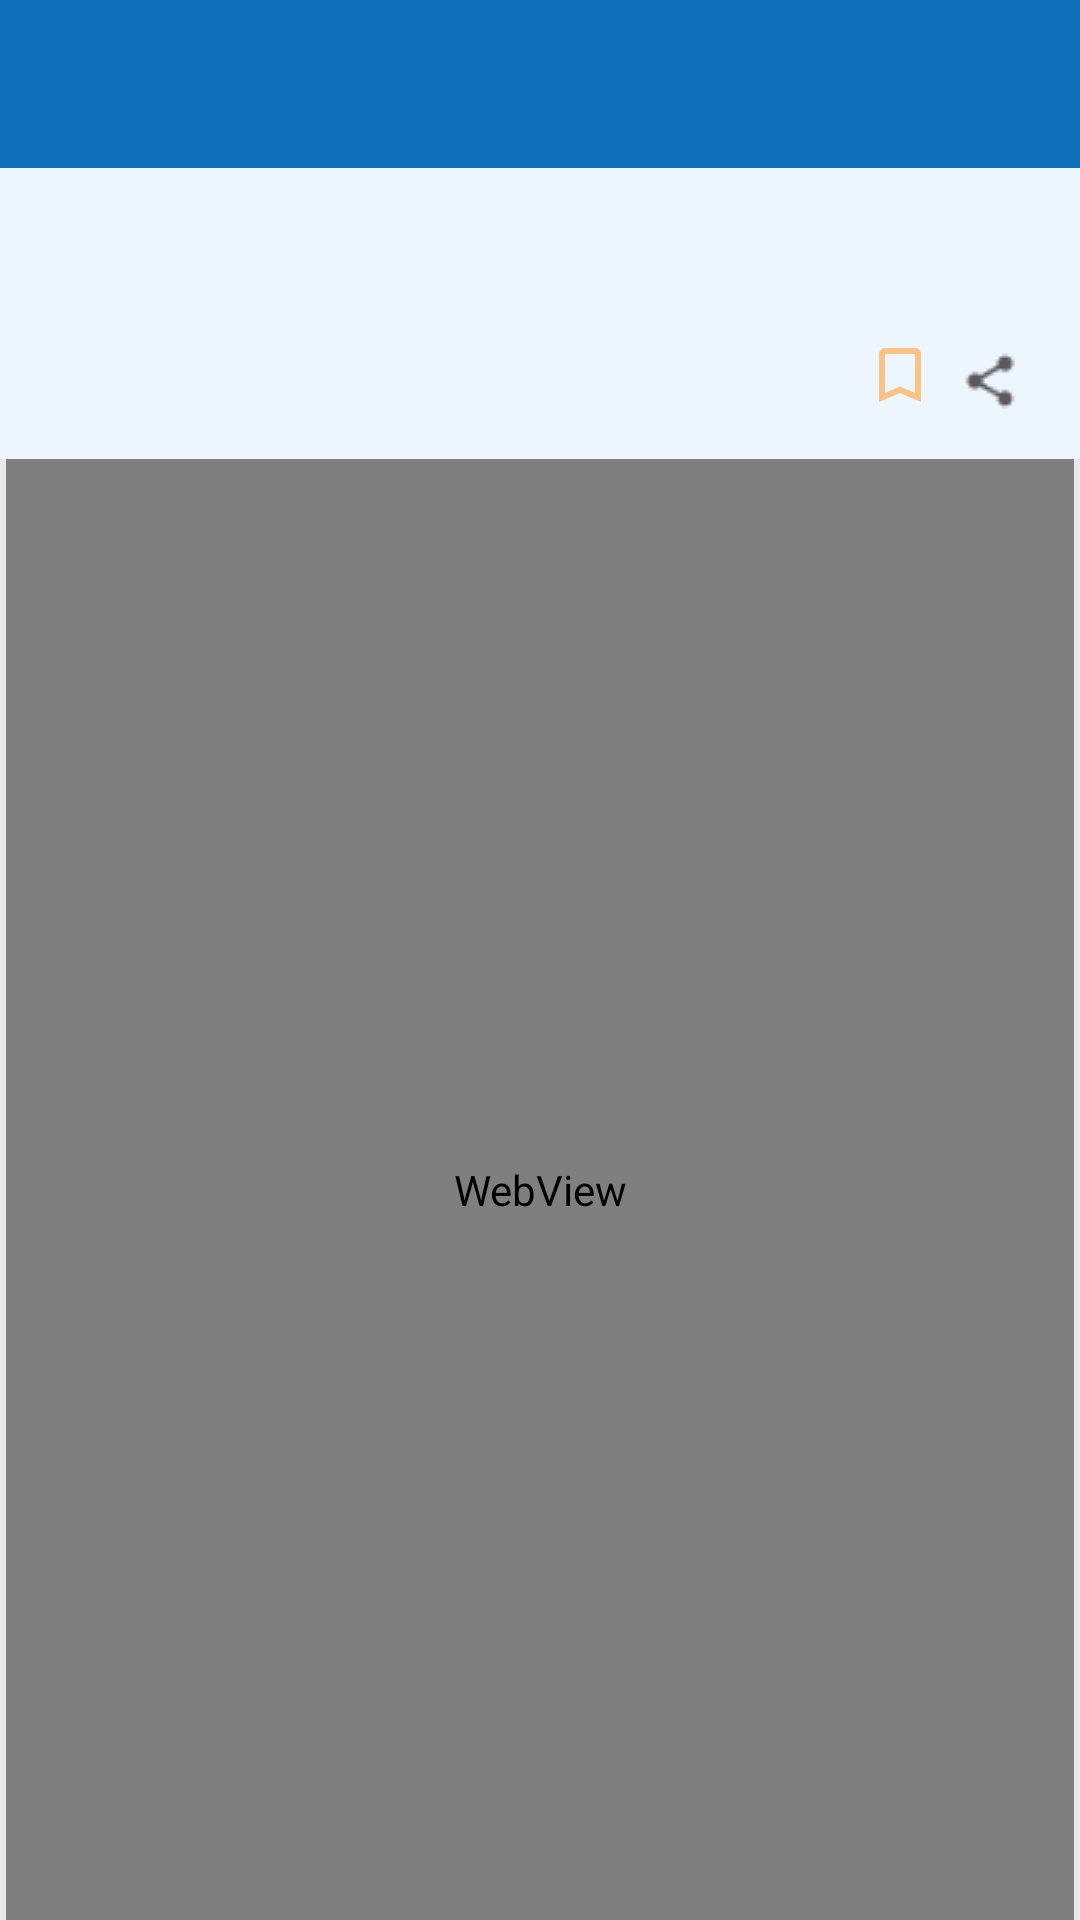

Where to tap for icons on this 1080x1920 app screen, as point (x, y):
bookmark: point (900, 375)
share: point (990, 381)
